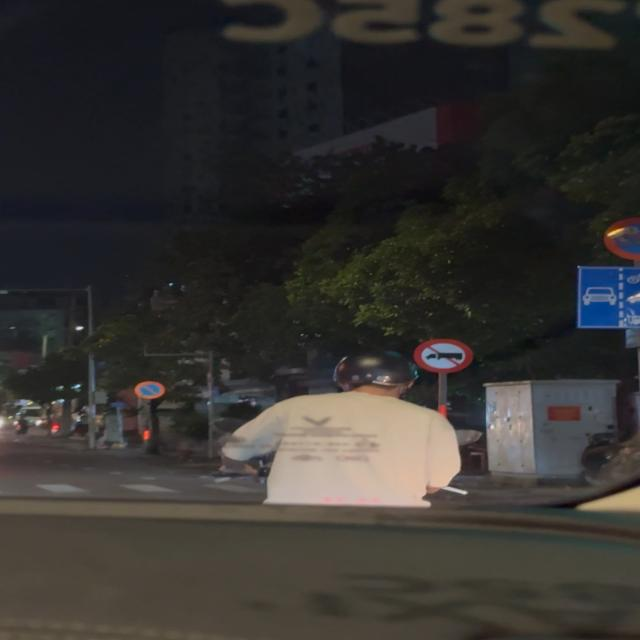Bien bao cam do xe: (133, 379, 170, 400)
Bien bao cam xe so-mi ro-mooc: (410, 336, 479, 376)
